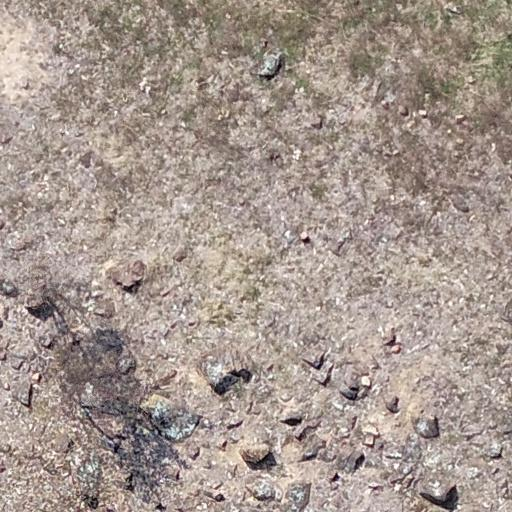stone: (418, 472, 464, 508), (104, 260, 148, 293), (284, 481, 313, 512), (240, 439, 272, 466), (245, 478, 281, 502), (337, 448, 365, 474), (308, 361, 334, 386), (258, 52, 282, 78), (11, 380, 33, 408), (415, 414, 440, 438), (294, 422, 320, 444), (298, 440, 324, 461), (301, 350, 326, 370), (54, 431, 74, 454), (381, 394, 403, 414), (450, 194, 472, 214), (151, 372, 175, 389), (338, 385, 360, 401), (0, 280, 19, 298), (203, 489, 226, 503), (172, 246, 188, 263), (246, 400, 262, 416), (488, 442, 504, 458), (279, 416, 303, 426), (362, 424, 380, 436), (310, 115, 324, 130), (382, 332, 397, 346), (450, 113, 470, 123), (382, 148, 400, 159), (40, 336, 54, 350), (416, 108, 430, 120), (195, 79, 209, 90), (190, 446, 201, 460), (399, 105, 411, 117), (30, 371, 42, 383), (1, 134, 13, 146), (18, 77, 30, 89), (360, 376, 373, 386), (300, 231, 310, 243), (390, 344, 402, 354), (380, 99, 390, 109), (67, 67, 77, 76), (467, 76, 477, 84), (454, 138, 464, 145)
